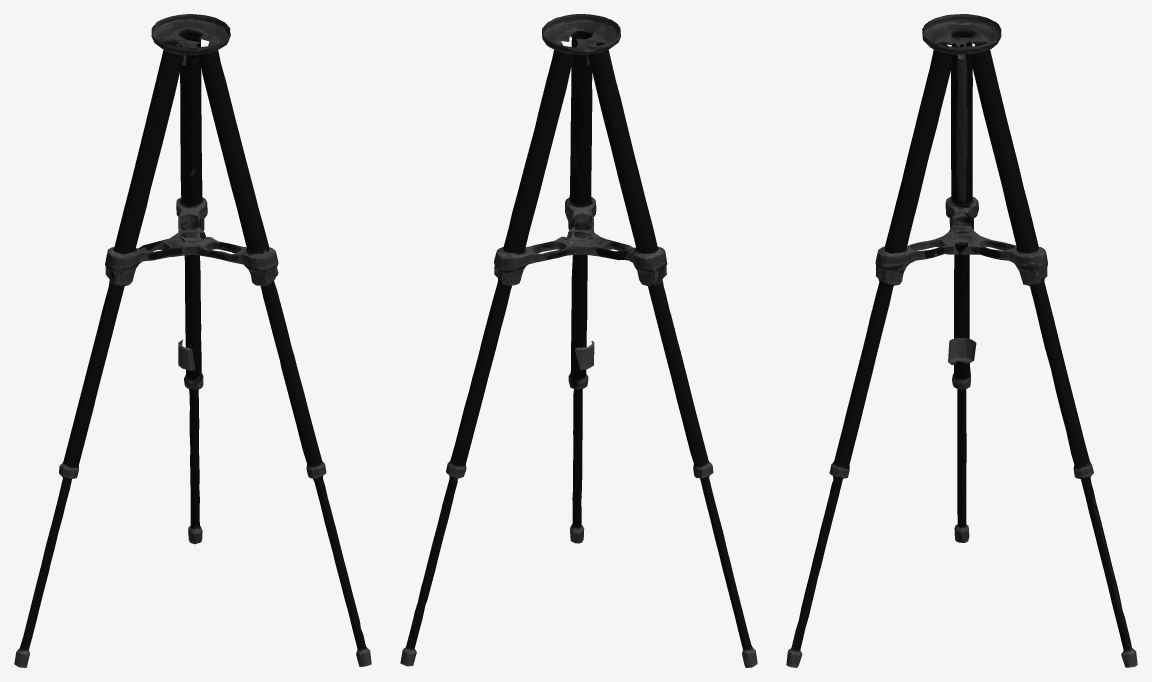
File: ClassicLegs.obj
3 views of the same model, side by side, from view 1: azimuth 30°, elevation 25°; view 2: azimuth 150°, elevation 25°; view 3: azimuth 270°, elevation 25° (orthographic).
Size of the model in its own units: 47.77 by 100 by 53.77.
Materials: 1 (1 with a texture image).
